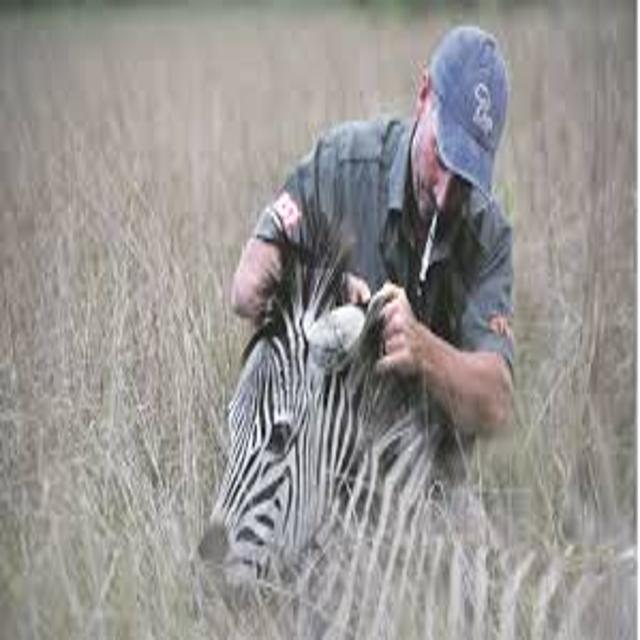poacher: (192, 11, 609, 453)
